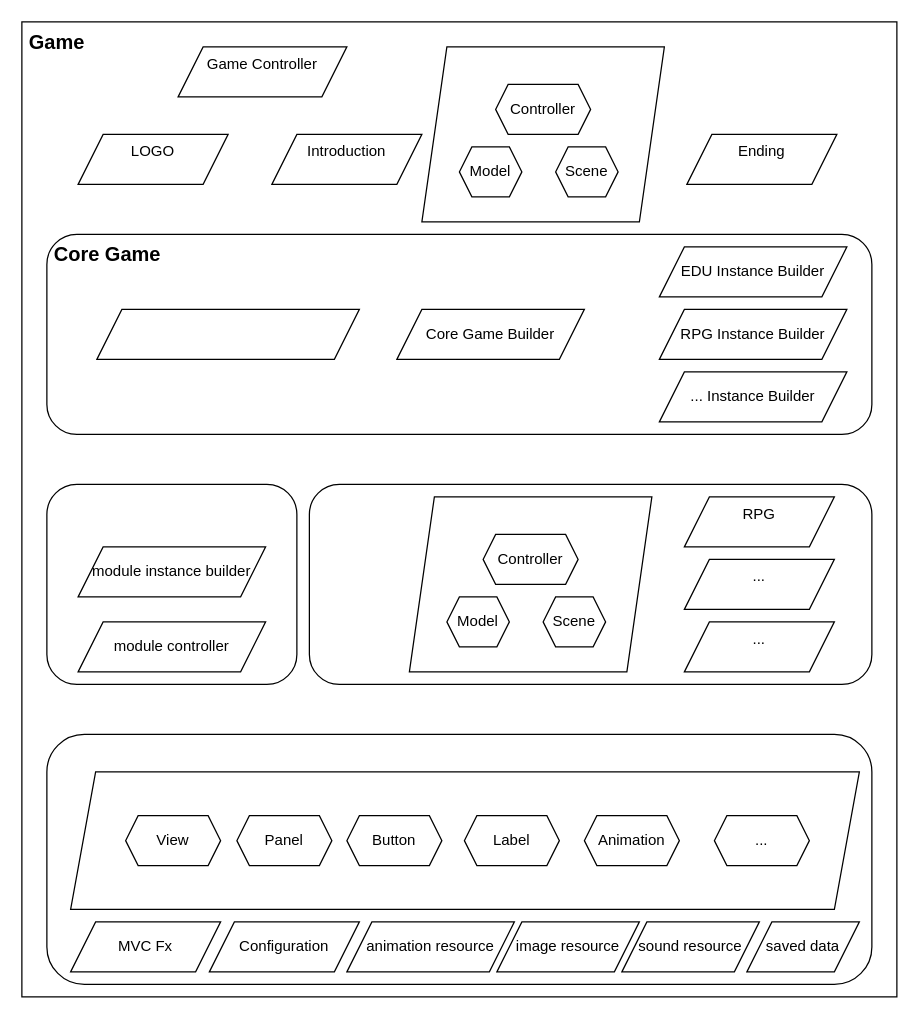
Image size: 919x1019. Some labels were removed from this diagram. The shapes that lost their labels are listed below. From the top down, each one's box as (x1, y1, x2, y2) in pixels, then its label:
(421, 46, 664, 222): Reception
(96, 308, 359, 359): Core Game Module Controller
(46, 483, 297, 684): Core Flow
(408, 496, 652, 672): EDU
(308, 483, 872, 684): Module
(46, 733, 872, 984): Common
(69, 771, 859, 909): UI Control
